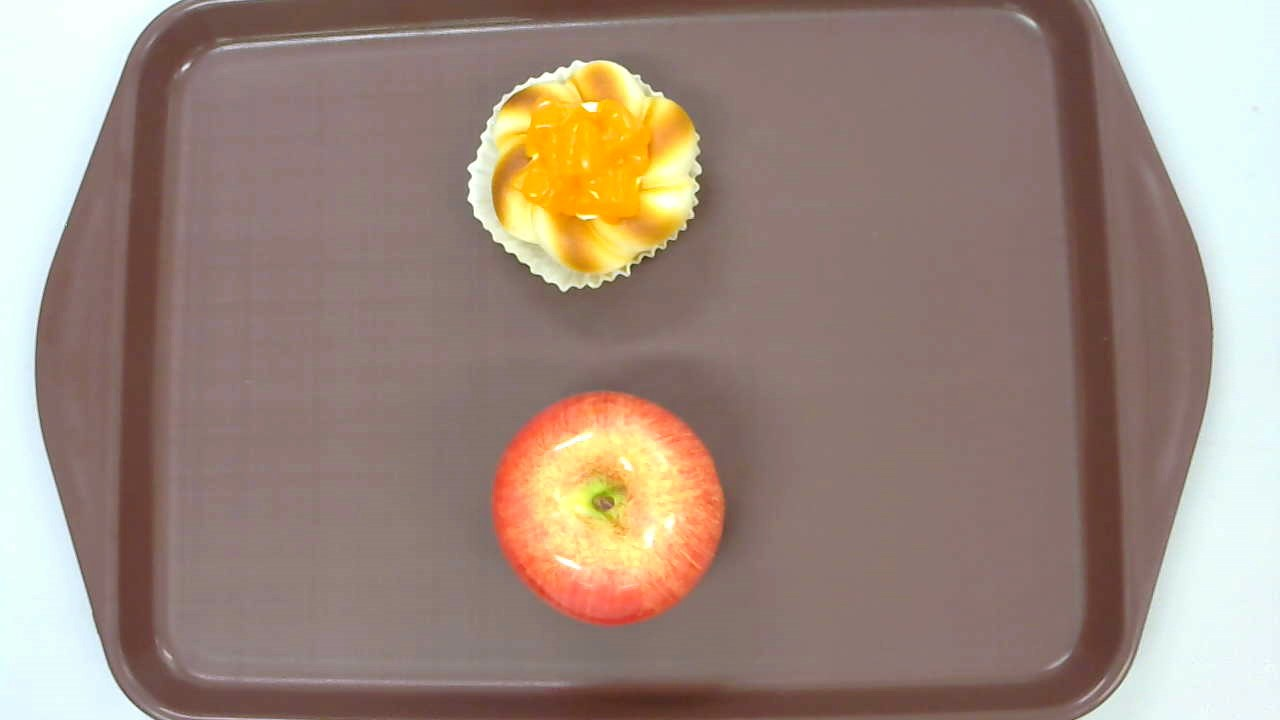mango tart: (465, 59, 703, 292)
red apple: (492, 389, 725, 626)
